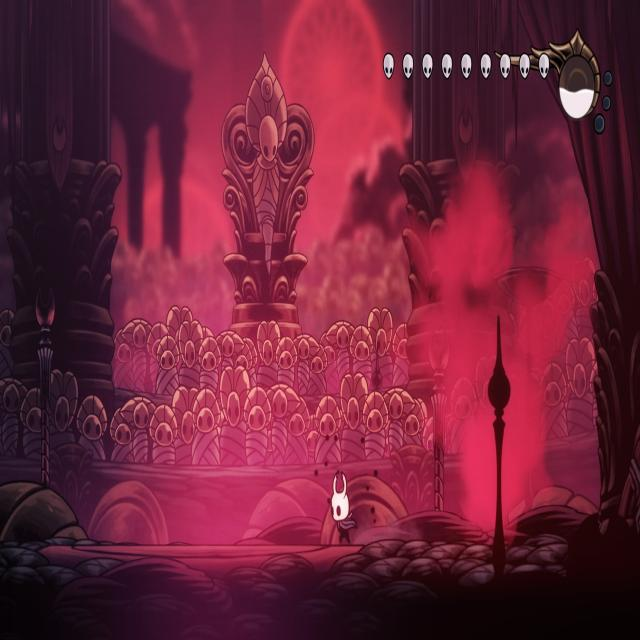Player: (328, 463, 358, 549)
